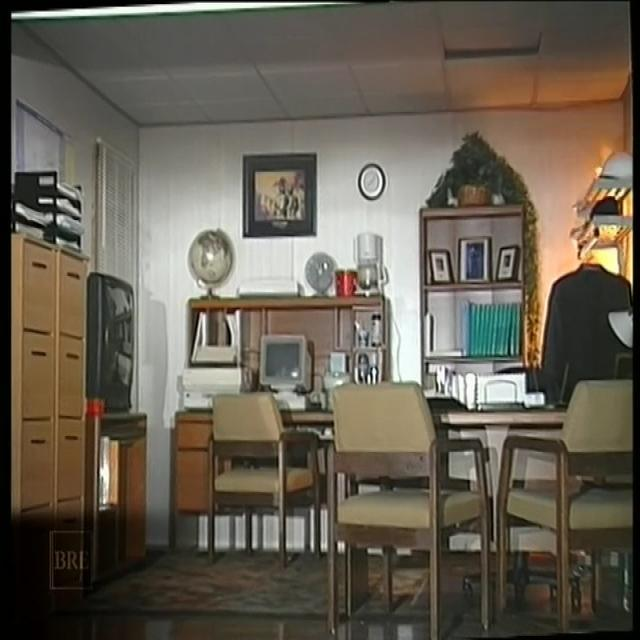Fire: (566, 140, 626, 265)
